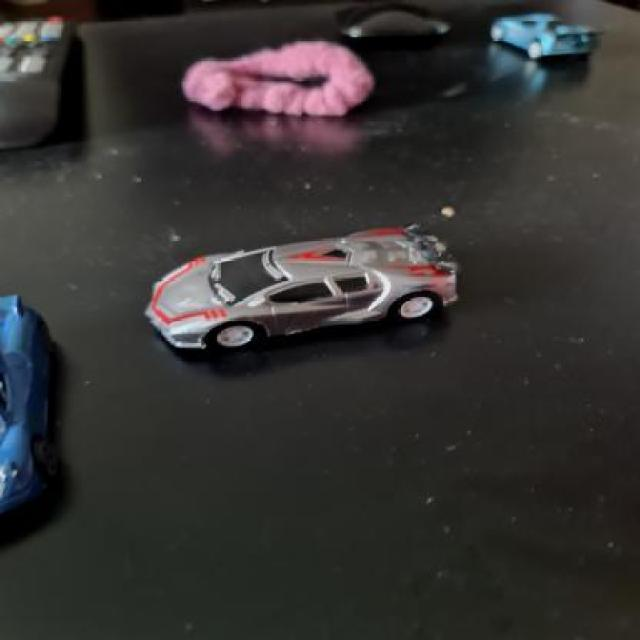car: (136, 224, 498, 358), (0, 290, 103, 522), (472, 7, 610, 64)
